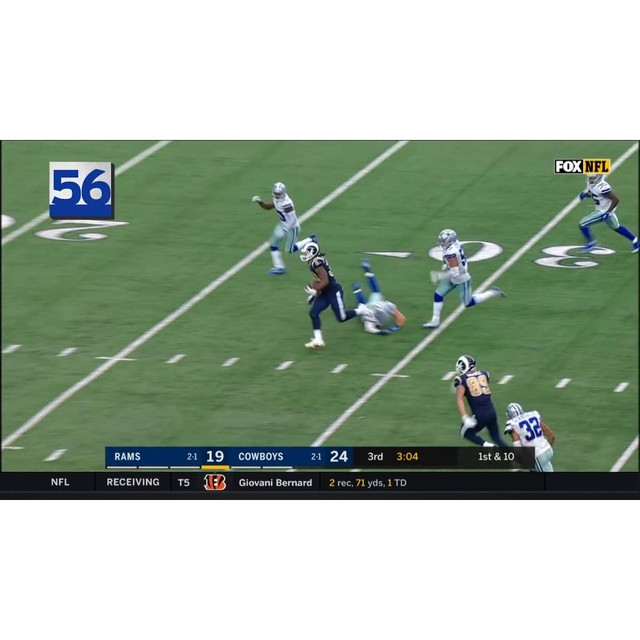american-football-player: (425, 227, 507, 329), (300, 243, 367, 346), (252, 182, 316, 274), (448, 356, 507, 448), (577, 173, 638, 253), (504, 402, 556, 473)
